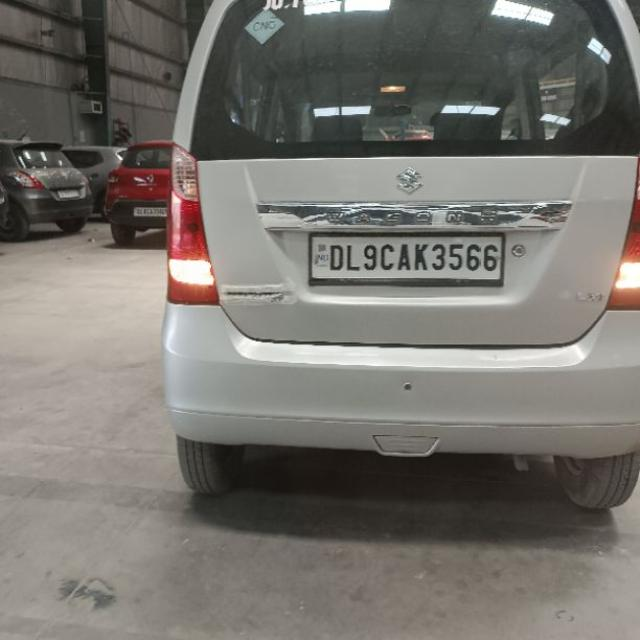license_plate: (308, 231, 505, 286)
